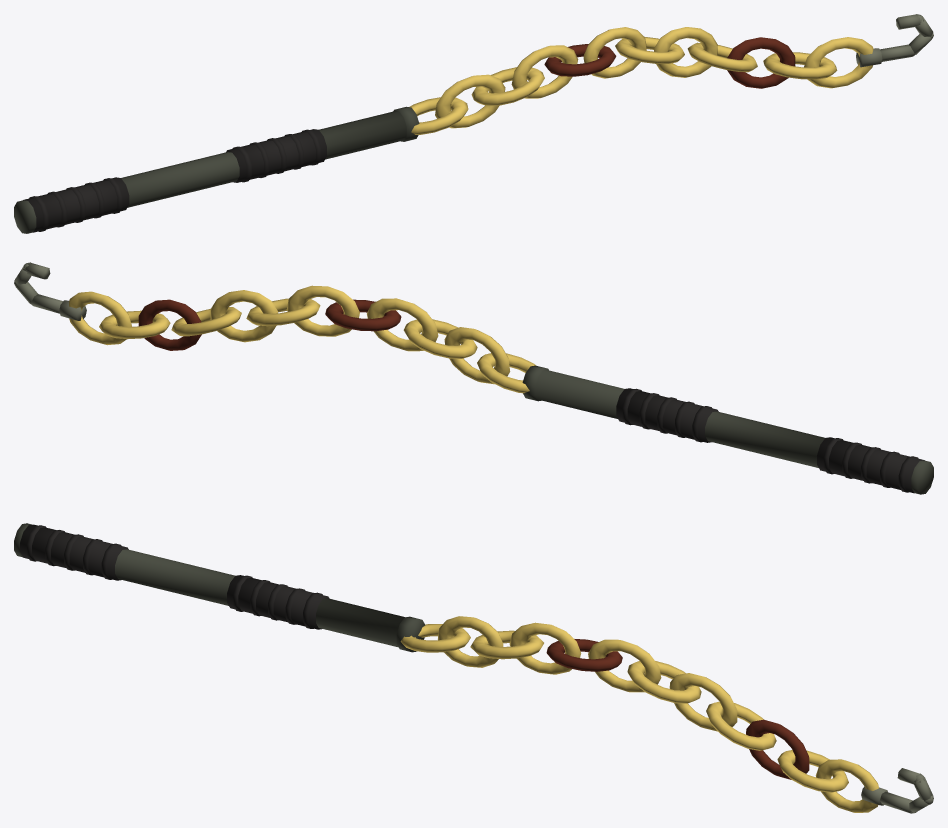
Rendered from item_tow_chain.glb.
3 renders of one model, top to bottom at view 1: azimuth 30°, elevation 25°; view 2: azimuth 150°, elevation 25°; view 3: azimuth 330°, elevation 25°, orthographic.
Parts seen in each view (by area): view 1: handle, grip, grip_left, hang_9, hang_11, hang_1, hang_3, hang_7, hang_5, hang_2, hang_10, hang_4 (+3 smaller); view 2: handle, grip, grip_left, hang_5, hang_3, hang_7, hang_1, hang_9, hang_11, hang_2, hang_4, hang_10 (+3 smaller); view 3: handle, grip, grip_left, hang_5, hang_7, hang_3, hang_9, hang_11, hang_1, hang_8, hang_6, hang_10 (+3 smaller).
Part boxes in pixels (x1=…): handle: x1=14, y1=106, x2=419, y2=233; grip: x1=23, y1=177, x2=129, y2=232; grip_left: x1=226, y1=129, x2=326, y2=182; hang_9: x1=727, y1=37, x2=795, y2=88; hang_11: x1=804, y1=37, x2=873, y2=88; hang_1: x1=435, y1=74, x2=505, y2=128; hang_3: x1=511, y1=45, x2=578, y2=98; hang_7: x1=654, y1=27, x2=717, y2=77; hang_5: x1=583, y1=27, x2=646, y2=78; hang_2: x1=471, y1=67, x2=544, y2=105; hang_10: x1=763, y1=52, x2=837, y2=79; hang_4: x1=544, y1=44, x2=616, y2=76; handle: x1=522, y1=365, x2=933, y2=494; grip: x1=817, y1=437, x2=924, y2=493; grip_left: x1=616, y1=388, x2=718, y2=442; hang_5: x1=286, y1=285, x2=359, y2=336; hang_3: x1=367, y1=298, x2=438, y2=351; hang_7: x1=210, y1=290, x2=277, y2=342; hang_1: x1=444, y1=327, x2=510, y2=384; hang_9: x1=138, y1=299, x2=201, y2=350; hang_11: x1=69, y1=291, x2=131, y2=345; hang_2: x1=403, y1=319, x2=477, y2=358; hang_4: x1=325, y1=299, x2=401, y2=331; hang_10: x1=99, y1=310, x2=170, y2=339; handle: x1=14, y1=523, x2=425, y2=652; grip: x1=20, y1=524, x2=128, y2=580; grip_left: x1=227, y1=575, x2=329, y2=629; hang_5: x1=588, y1=639, x2=661, y2=692; hang_7: x1=669, y1=673, x2=737, y2=731; hang_3: x1=509, y1=622, x2=581, y2=674; hang_9: x1=746, y1=719, x2=809, y2=779; hang_11: x1=815, y1=759, x2=878, y2=812; hang_1: x1=437, y1=616, x2=503, y2=667; hang_8: x1=706, y1=701, x2=776, y2=750; hang_6: x1=627, y1=661, x2=701, y2=703; hang_10: x1=777, y1=750, x2=848, y2=792.
Size of the model in its own units: 1.46 by 0.176 by 0.0981.
